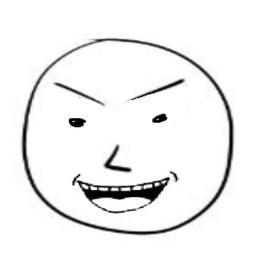frowning_eyebrow: (129, 74, 186, 105), (51, 84, 106, 109)
open_mouth: (70, 174, 190, 218)
pointy_nose: (92, 142, 137, 176)
small_eye: (148, 110, 174, 127), (64, 112, 87, 131)
